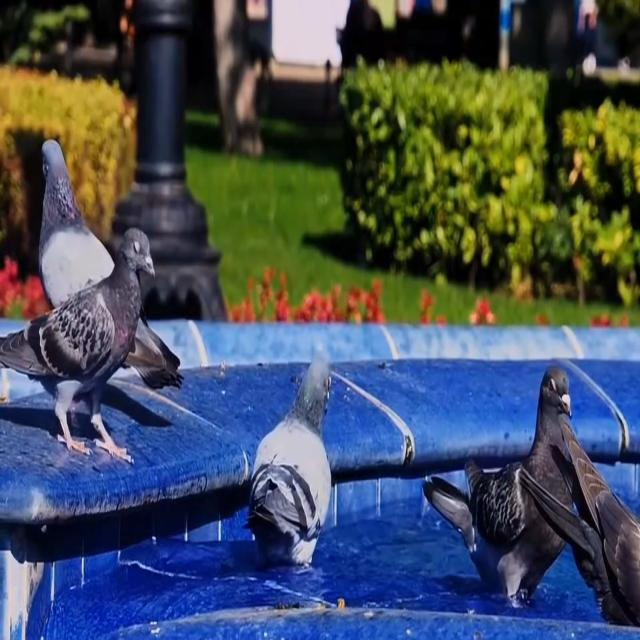bird: (12, 106, 185, 414), (410, 360, 594, 634), (0, 215, 170, 491), (500, 400, 640, 640), (228, 343, 350, 581)
